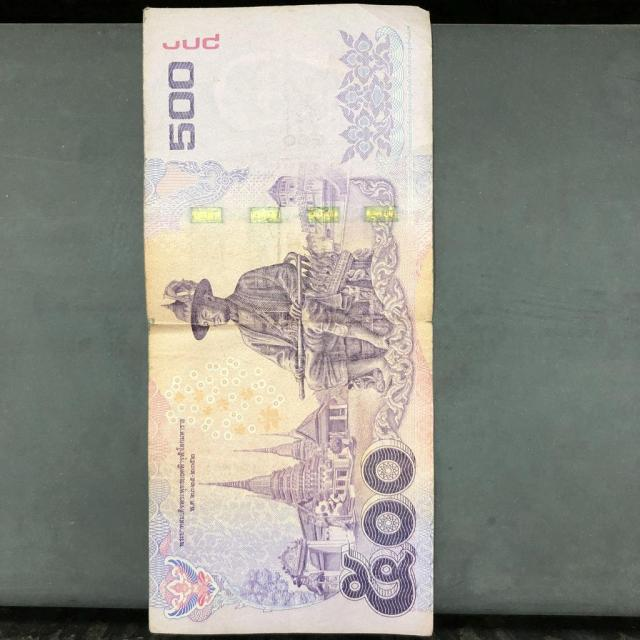THAI500: (149, 9, 432, 632)
